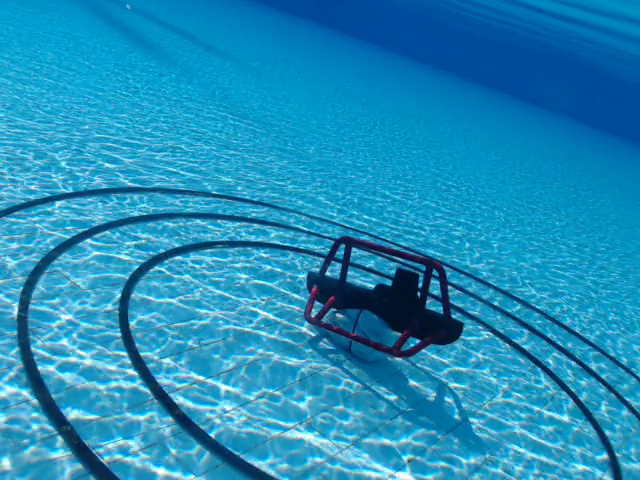submarine: (304, 235, 466, 361)
